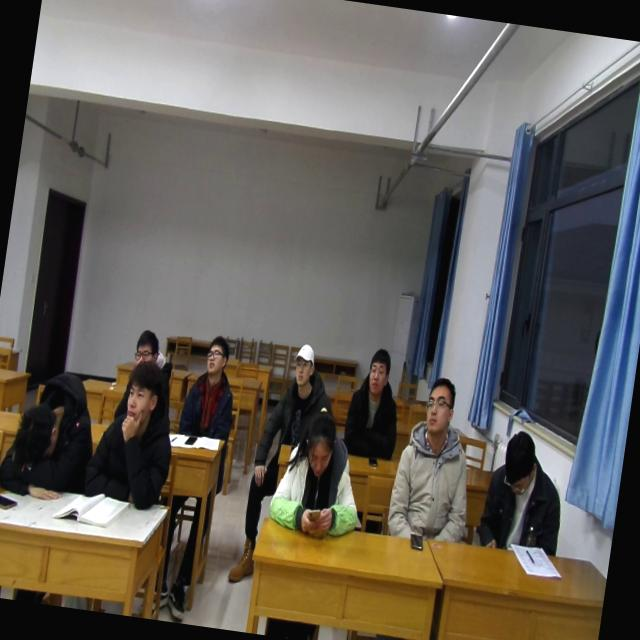bow: (0, 357, 104, 509)
down: (296, 396, 345, 481), (495, 423, 544, 496)
lookup: (118, 358, 168, 430), (420, 371, 461, 438), (362, 340, 398, 400), (287, 338, 323, 390), (199, 332, 235, 382), (128, 324, 161, 370)
sit: (383, 370, 485, 550), (80, 352, 184, 516), (266, 396, 374, 543), (476, 421, 574, 559), (262, 338, 340, 448), (339, 340, 408, 462), (176, 330, 246, 441), (116, 325, 182, 419)
